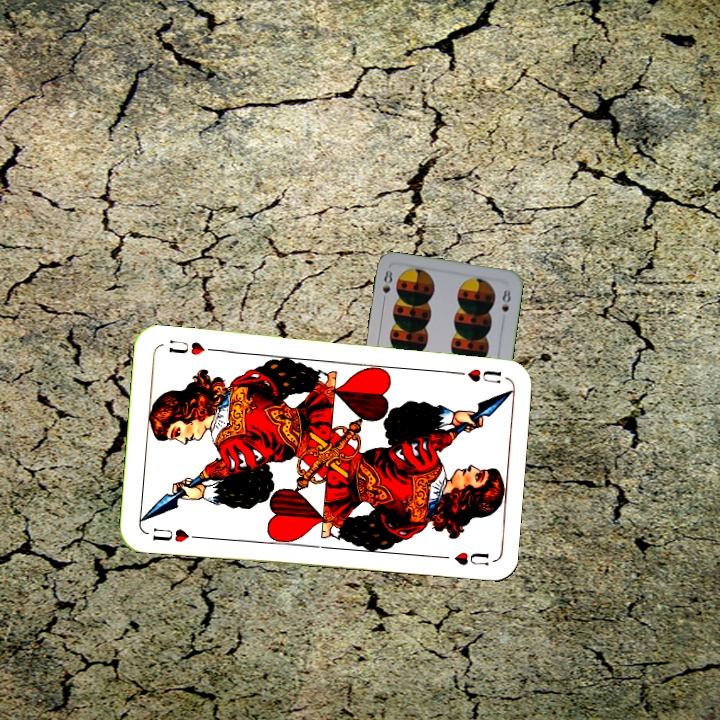HU: (447, 364, 504, 386), (148, 524, 202, 545)
S8: (378, 266, 395, 306)
